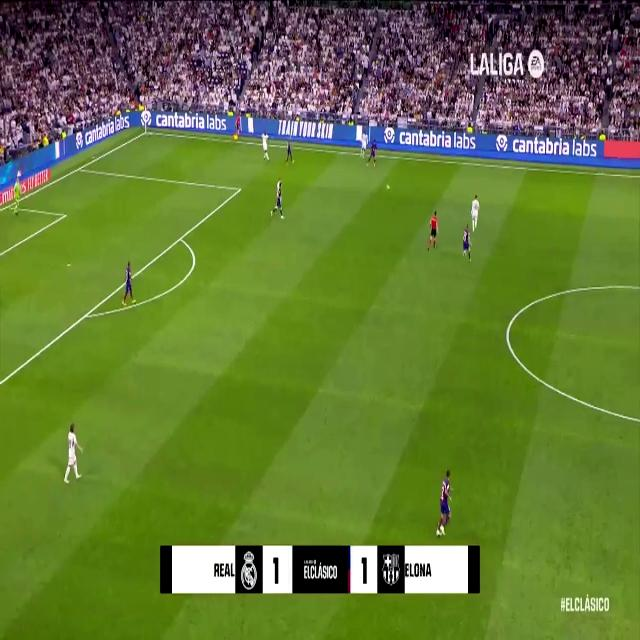bigarea_top_inner: (236, 182, 243, 196)
bigarea_top_outter: (75, 160, 83, 174)
bottom_arc_area_intersection: (81, 304, 91, 324)
corner: (142, 126, 150, 136)
smallarea_top_inner: (61, 208, 68, 220)
top_arc_area_intersection: (177, 230, 184, 246)
